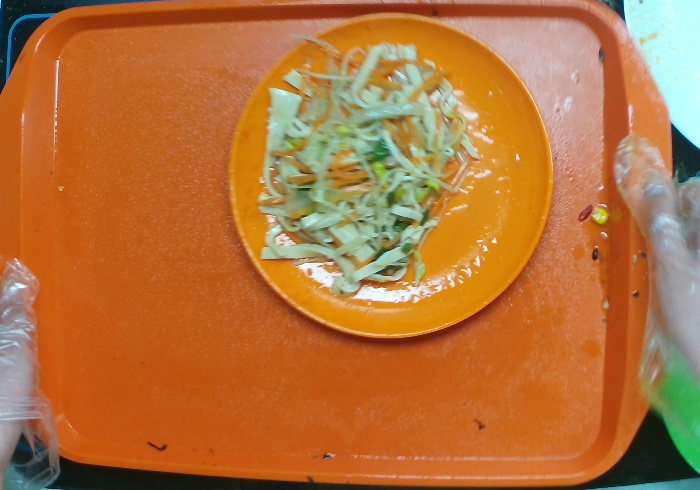HZYJPL-Ju_Huang_Yuan_Pan: (231, 10, 559, 348)
